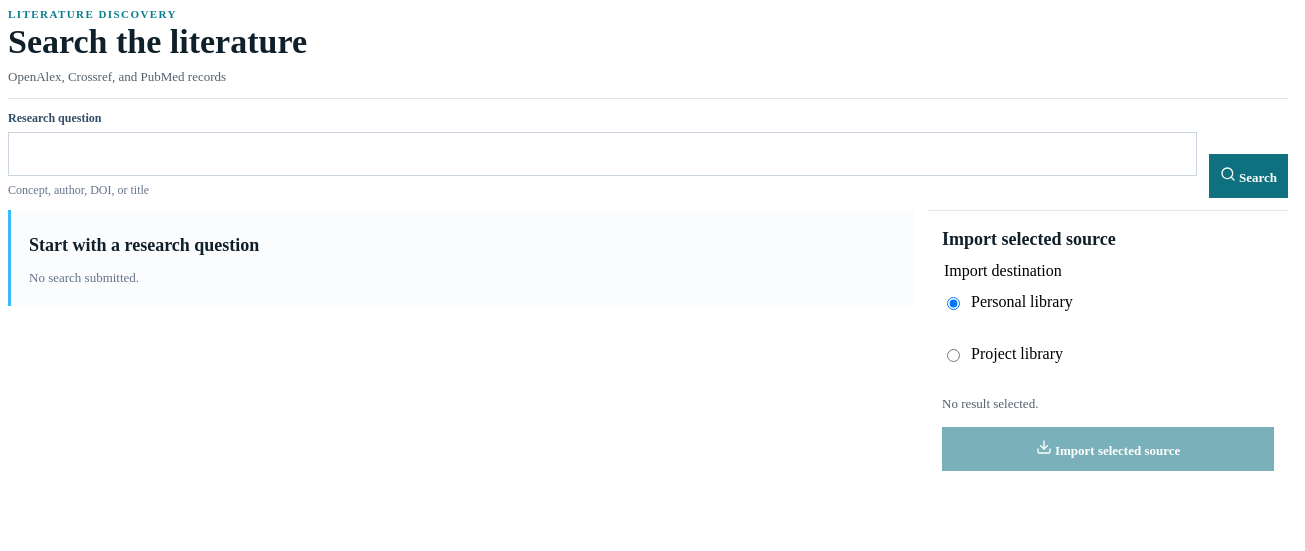
Test: LiteratureSearchPage regressions › keeps the first page visible when a next-page request fails
Type "paged search" into the field with test id "literature-search-query" at (602, 154), box x1=8 y1=132 x2=1197 y2=176
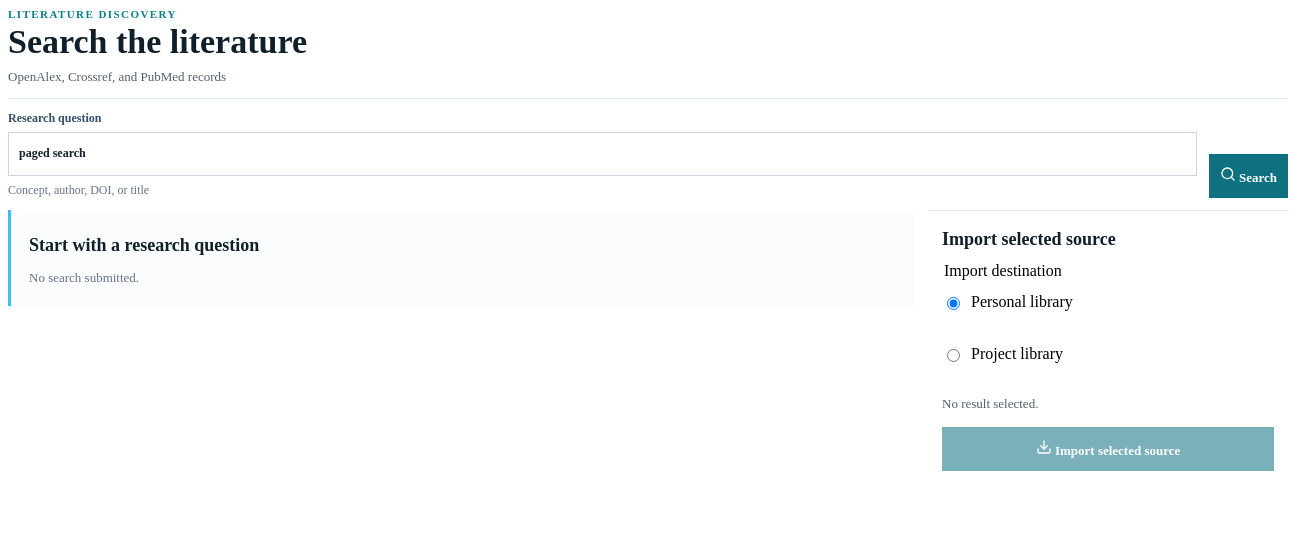
Submit the form with test id "literature-search-submit", box x1=8 y1=110 x2=1288 y2=198
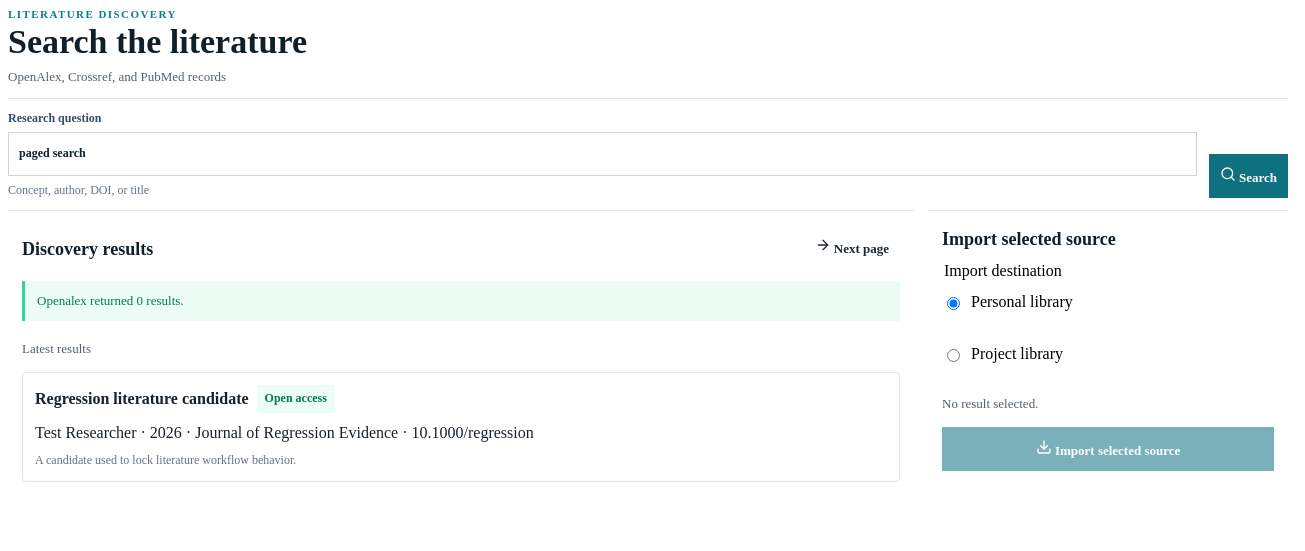
Expected: the button "Regression literature candidate" is shown, x1=22 y1=372 x2=900 y2=482
Click the button "Next page" at (852, 247), box x1=804 y1=225 x2=900 y2=269
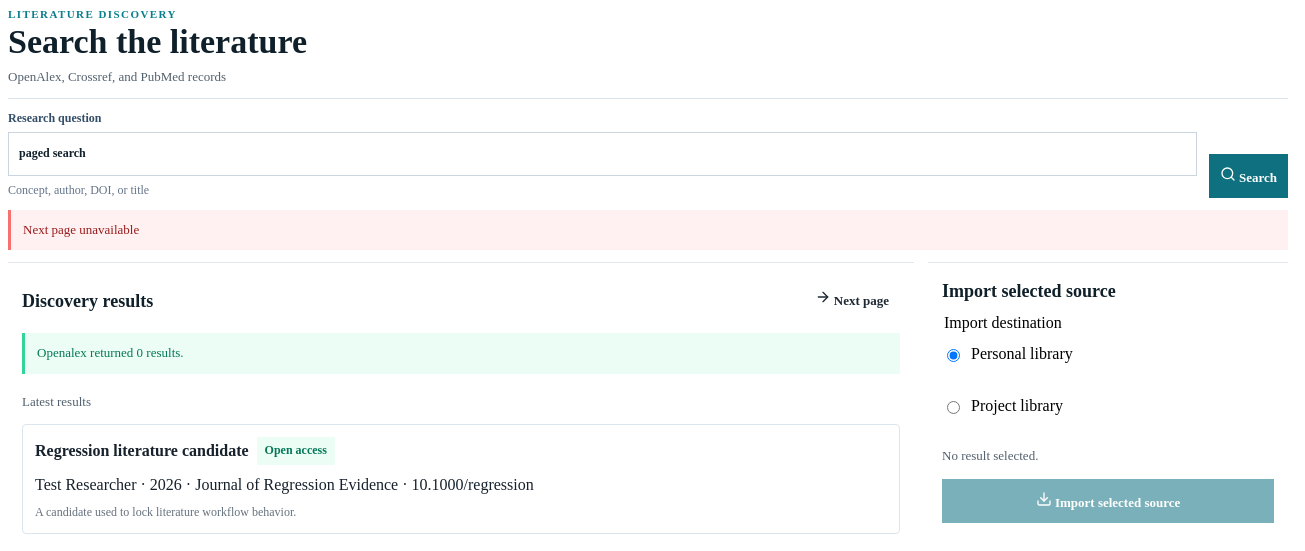
Expected: the button "Regression literature candidate" is shown, x1=22 y1=424 x2=900 y2=534
Expected: the text "Next page unavailable" is shown, x1=8 y1=210 x2=1288 y2=250
